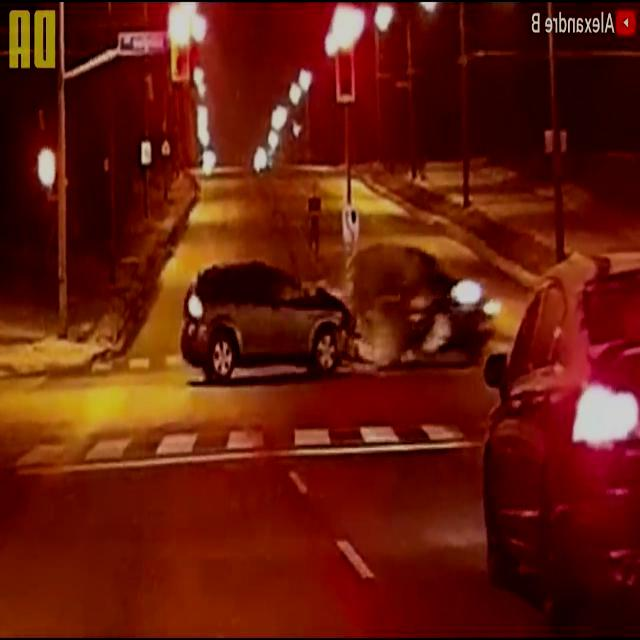accident: (176, 240, 504, 388)
